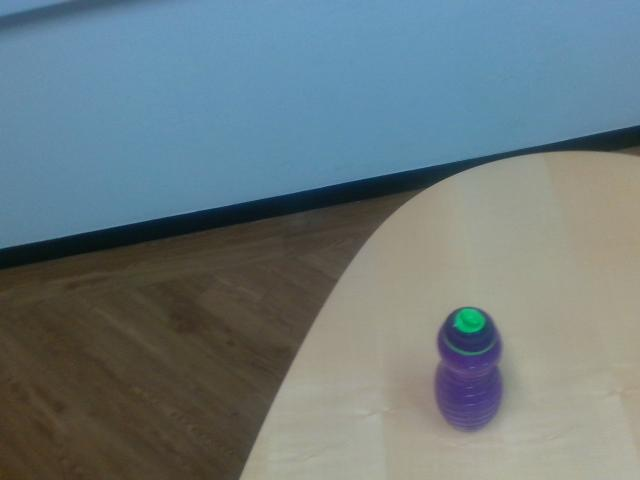bottle: (434, 306, 503, 432)
